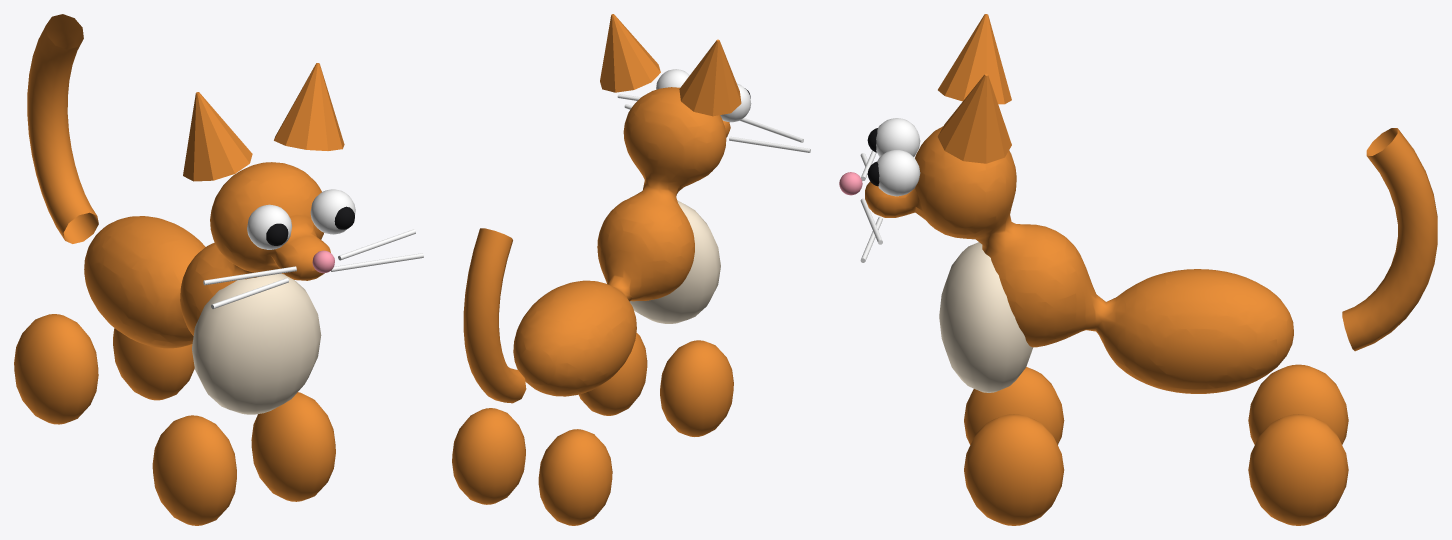
Rendered from cat.glb.
3 renders of one model, left to right at view 1: azimuth 30°, elevation 25°; view 2: azimuth 150°, elevation 25°; view 3: azimuth 270°, elevation 25°, orthographic. The views are drawn at different scales.
Parts seen in each view (by area): view 1: Cat, Sphere, BézierCurve, Sphere.003, Sphere.004, Sphere.001, Sphere.002, Cone.002, Cone, Sphere.005, Sphere.007, Cylinder.003 (+1 smaller); view 2: Cat, BézierCurve, Sphere.004, Sphere.003, Sphere.002, Sphere, Cone.002, Cone, Sphere.001, Sphere.007, Sphere.005; view 3: Cat, BézierCurve, Sphere, Sphere.002, Sphere.001, Sphere.004, Cone, Sphere.003, Cone.002, Sphere.005, Sphere.007.
Part boxes in pixels (box(x1,y1,x2,y2)): Cat: box(84, 162, 330, 348); Sphere: box(192, 273, 321, 414); BézierCurve: box(27, 14, 98, 243); Sphere.003: box(152, 415, 236, 525); Sphere.004: box(14, 314, 98, 424); Sphere.001: box(251, 392, 335, 501); Sphere.002: box(113, 328, 194, 400); Cone.002: box(183, 92, 252, 181); Cone: box(274, 63, 344, 150); Sphere.005: box(310, 189, 355, 234); Sphere.007: box(247, 204, 292, 249); Cylinder.003: box(203, 266, 296, 285); Cat: box(513, 87, 730, 396); BézierCurve: box(463, 228, 526, 403); Sphere.004: box(538, 429, 612, 525); Sphere.003: box(660, 340, 733, 436); Sphere.002: box(452, 408, 525, 504); Sphere: box(629, 200, 720, 323); Cone.002: box(679, 39, 741, 116); Cone: box(600, 14, 660, 92); Sphere.001: box(579, 332, 647, 415); Sphere.007: box(720, 83, 751, 122); Sphere.005: box(656, 69, 689, 89); Cat: box(865, 126, 1293, 393); BézierCurve: box(1342, 128, 1437, 351); Sphere: box(939, 242, 1033, 392); Sphere.002: box(1248, 414, 1348, 525); Sphere.001: box(964, 414, 1064, 525); Sphere.004: box(1248, 364, 1348, 444); Cone: box(937, 73, 1011, 163); Sphere.003: box(964, 367, 1064, 444); Cone.002: box(938, 14, 1011, 104); Sphere.005: box(877, 150, 920, 196); Sphere.007: box(876, 118, 920, 156).
Size of the model in its own units: 0.2992 by 0.599 by 0.7155.
